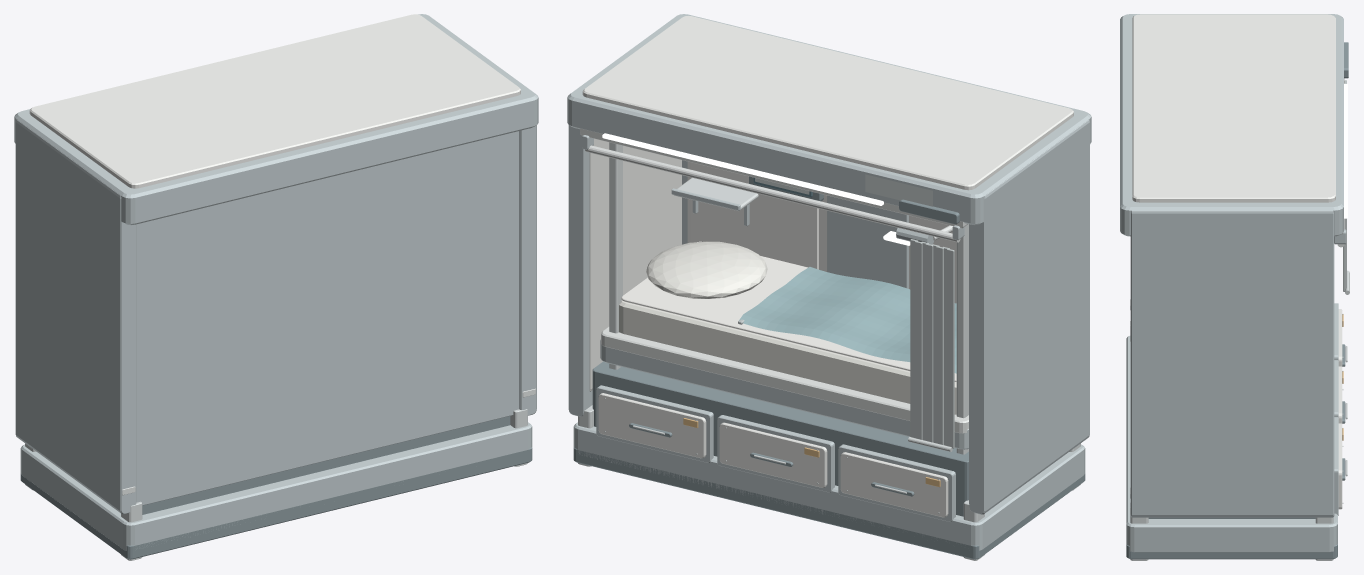
File: crew_bunk.glb
The picture shows the model from 3 angles, left to right: view 1: azimuth 30°, elevation 25°; view 2: azimuth 150°, elevation 25°; view 3: azimuth 270°, elevation 25°; orthographic projection. The views are drawn at different scales.
Parts seen in each view (by area): view 1: static_graphite__graphite, static_bone__bone, static_deep__deep, static_steel__steel; view 2: static_graphite__graphite, static_bone__bone, static_deep__deep, static_fabric__fabric, static_cream__cream, Bedding_Blanket__olive, Privacy_Curtain__fabricdark, static_satinsteel__satinsteel, static_steel__steel, Drawer_01_Face__bone, Drawer_02_Face__bone, Drawer_03_Face__bone (+8 smaller); view 3: static_graphite__graphite, static_bone__bone, static_deep__deep, Overhead_Light_Emitter__lamp, Drawer_03_Frame__graphite, Drawer_03_Face__bone, static_steel__steel.
Boxes of the visible parts, x1,y1,x2,y2 form: static_graphite__graphite: [14, 14, 538, 550]; static_bone__bone: [29, 14, 520, 188]; static_deep__deep: [20, 416, 532, 559]; static_steel__steel: [25, 409, 527, 560]; static_graphite__graphite: [567, 14, 1091, 550]; static_bone__bone: [582, 16, 1073, 391]; static_deep__deep: [573, 176, 1085, 559]; static_fabric__fabric: [619, 241, 956, 414]; static_cream__cream: [621, 162, 956, 381]; Bedding_Blanket__olive: [739, 267, 956, 373]; Privacy_Curtain__fabricdark: [910, 239, 954, 448]; static_satinsteel__satinsteel: [580, 128, 968, 433]; static_steel__steel: [578, 142, 1080, 560]; Drawer_01_Face__bone: [840, 452, 948, 517]; Drawer_02_Face__bone: [719, 422, 827, 487]; Drawer_03_Face__bone: [598, 393, 706, 458]; static_graphite__graphite: [1120, 14, 1346, 552]; static_bone__bone: [1132, 14, 1335, 202]; static_deep__deep: [1126, 42, 1348, 559]; Overhead_Light_Emitter__lamp: [1344, 84, 1347, 218]; Drawer_03_Frame__graphite: [1334, 417, 1338, 515]; Drawer_03_Face__bone: [1338, 423, 1342, 509]; static_steel__steel: [1130, 314, 1343, 560].
Bounding box in the file's own units: 2.28 × 1.96 × 1.13.
